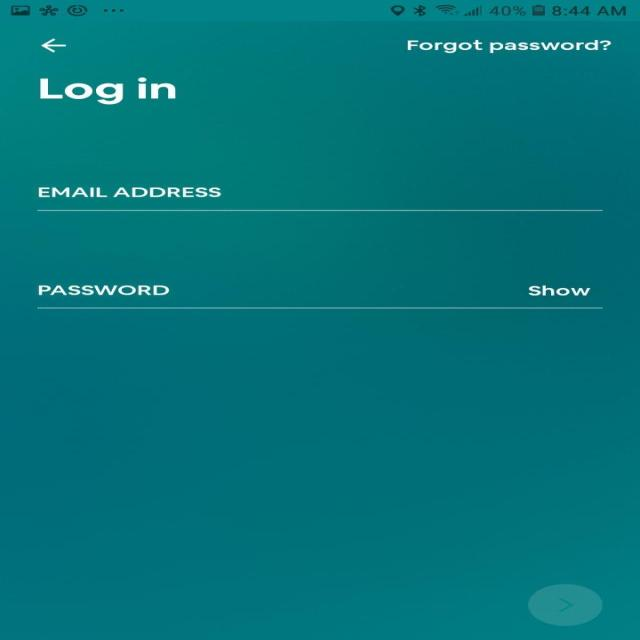EditText: (36, 187, 602, 212), (37, 284, 603, 308)
Icon: (526, 583, 603, 626), (40, 38, 67, 53)
Text: (38, 75, 175, 104), (406, 40, 612, 54), (38, 187, 220, 197), (38, 284, 169, 296), (527, 284, 590, 296)
